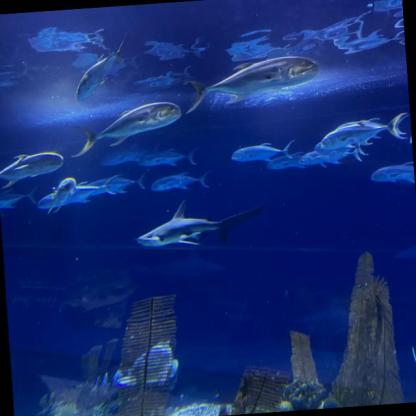fish: (182, 54, 321, 113), (74, 101, 183, 154), (72, 28, 134, 102), (318, 111, 410, 150), (0, 152, 65, 188), (229, 139, 296, 163), (299, 146, 368, 168), (81, 174, 145, 196), (136, 147, 198, 169), (150, 171, 211, 193), (35, 187, 92, 209), (369, 161, 415, 187), (45, 176, 77, 213), (0, 185, 40, 211), (314, 138, 366, 158), (265, 150, 316, 169), (408, 130, 412, 146)
shark: (132, 195, 269, 250), (130, 246, 226, 280)
